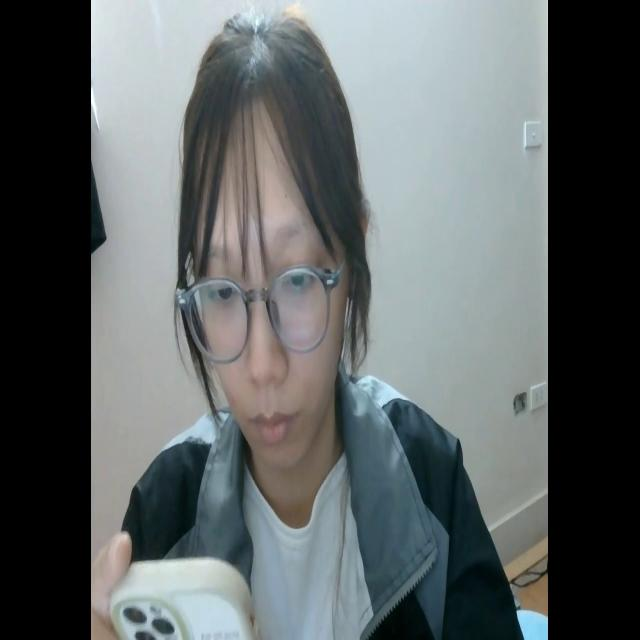phone: (109, 544, 251, 640)
student: (101, 10, 523, 640)
